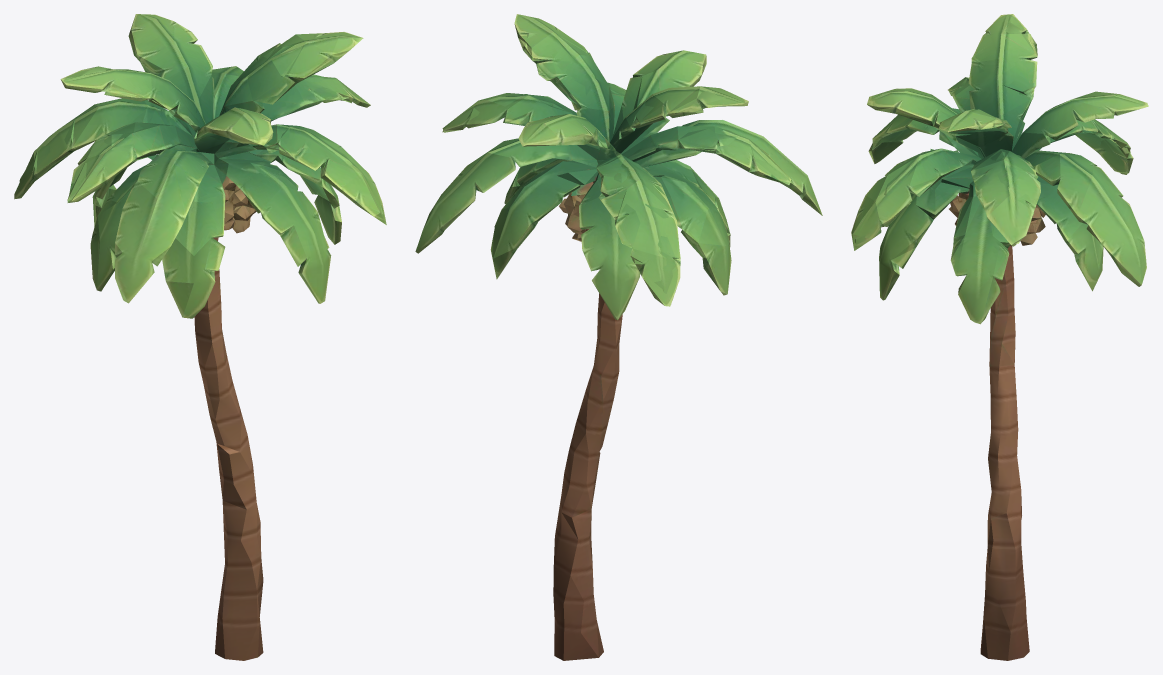
Rendered from veg_palm_tall_a_v001.glb.
3 renders of one model, left to right at view 1: azimuth 30°, elevation 25°; view 2: azimuth 150°, elevation 25°; view 3: azimuth 270°, elevation 25°, orthographic. The views are drawn at different scales.
Parts seen in each view (by area): view 1: output_unwrapped; view 2: output_unwrapped; view 3: output_unwrapped.
Part boxes in pixels (<box>): output_unwrapped: <box>14,14,386,660</box>; output_unwrapped: <box>415,14,822,660</box>; output_unwrapped: <box>851,14,1148,660</box>.
Size of the model in its own units: 6.77 by 12 by 5.73.
1 material, 1 textured.
